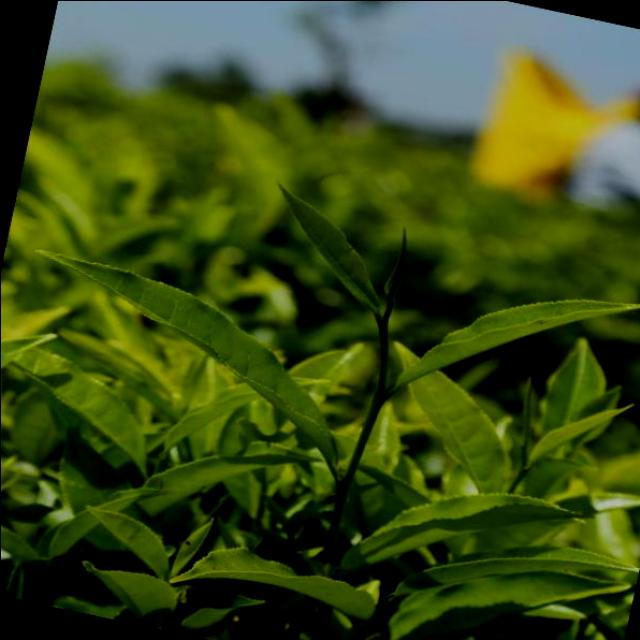Stem: (375, 389, 386, 401)
